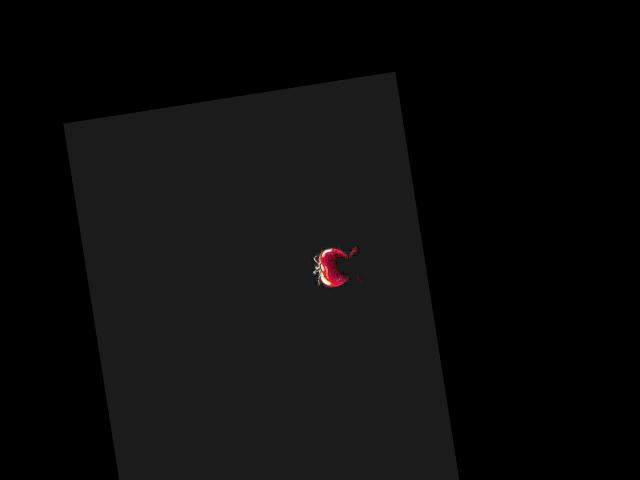tomato: (315, 246, 351, 289)
